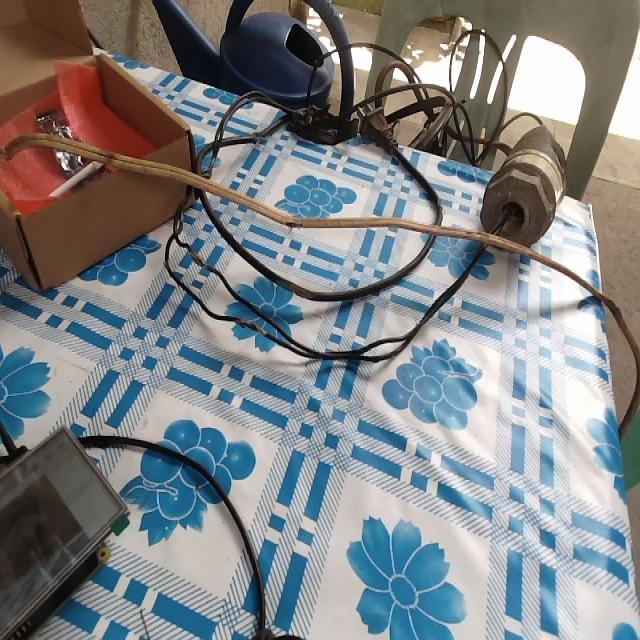-: (239, 319, 265, 336), (183, 245, 203, 267), (285, 279, 309, 296), (283, 216, 302, 231)
